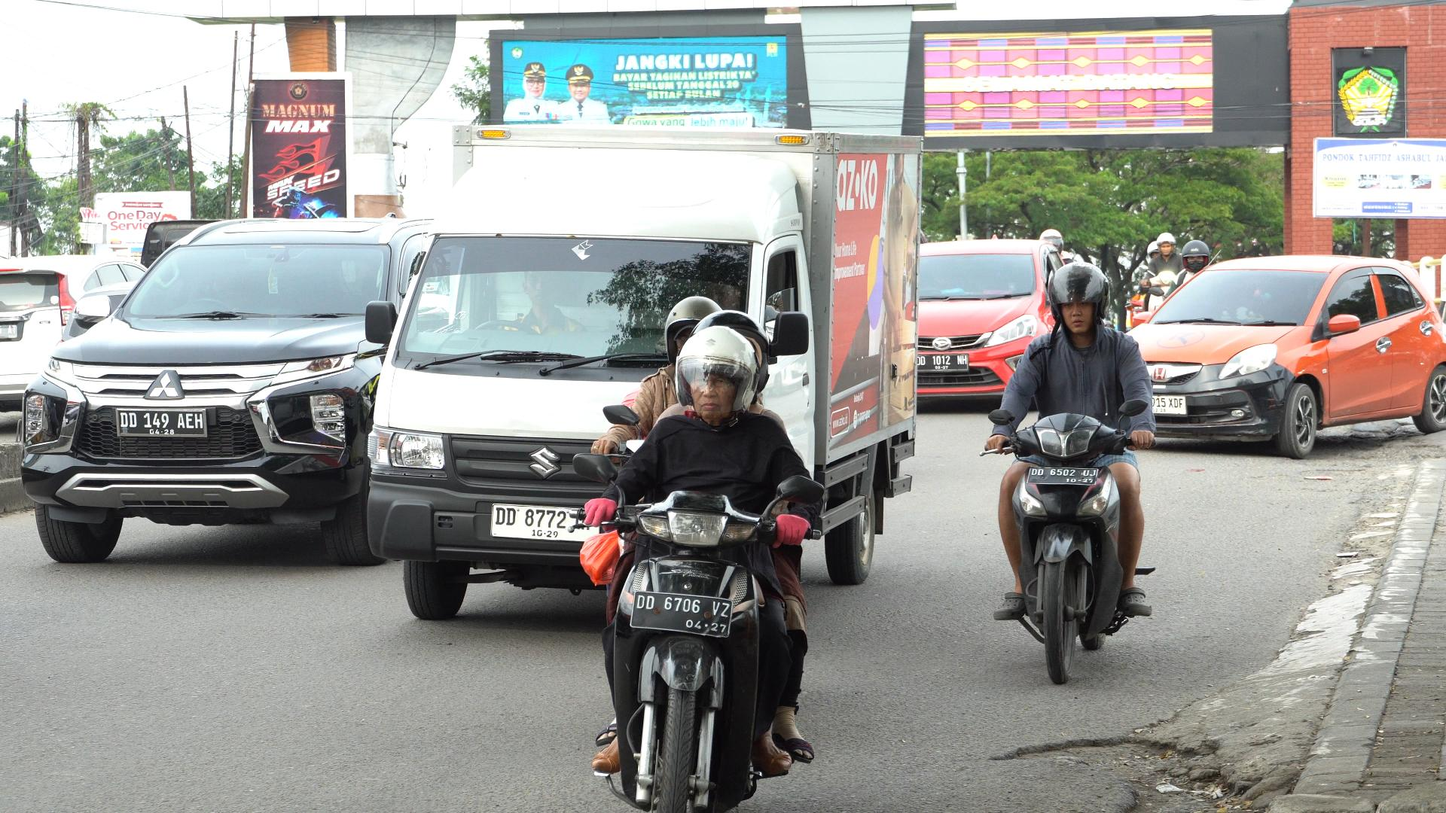number-plate: (630, 590, 730, 640), (1029, 465, 1096, 489)
